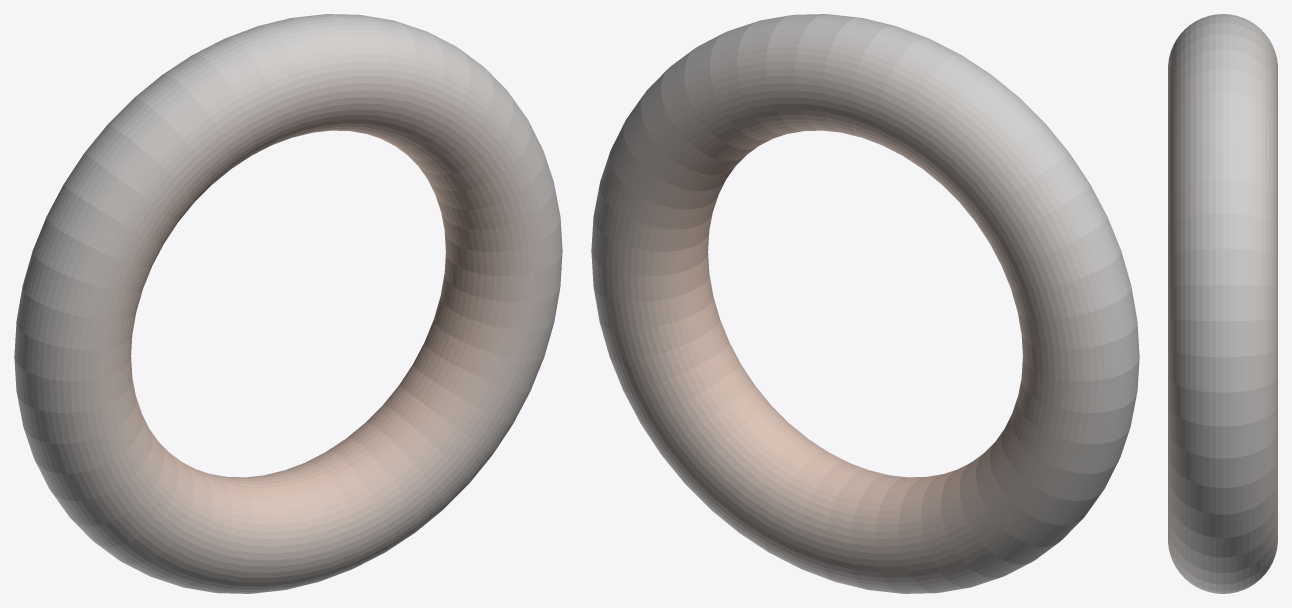
3 views of the same model, side by side, from view 1: azimuth 30°, elevation 25°; view 2: azimuth 150°, elevation 25°; view 3: azimuth 270°, elevation 25° (orthographic). The views are drawn at different scales.
Visible parts, largest first — view 1: world; view 2: world; view 3: world.
Boxes of the visible parts, box(x1,y1,x2,y2) form: world: box(14, 14, 562, 593); world: box(591, 14, 1139, 593); world: box(1168, 14, 1277, 593).
Bounding box in the file's own units: 28.8 × 28.74 × 5.46.
